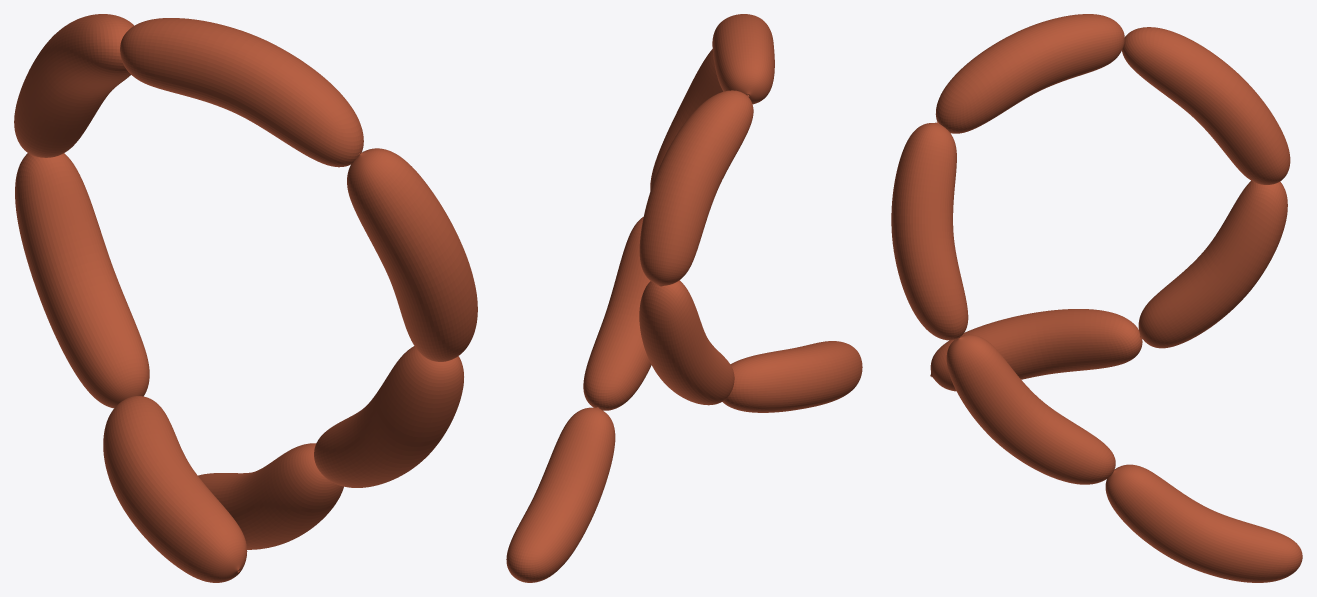
Rendered from sausage.fbx.
3 renders of one model, left to right at view 1: azimuth 30°, elevation 25°; view 2: azimuth 150°, elevation 25°; view 3: azimuth 270°, elevation 25°, orthographic. The views are drawn at different scales.
Parts seen in each view (by area): view 1: sausage; view 2: sausage; view 3: sausage.
Part boxes in pixels (x1,y1,x2,y2): sausage: (14,14,477,582); sausage: (506,14,862,582); sausage: (891,14,1302,582).
Size of the model in its own units: 51.5 by 106 by 78.34.
